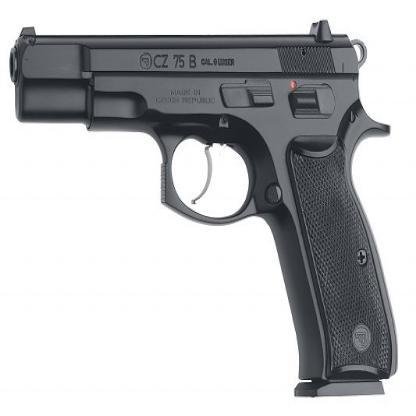gun: (8, 15, 401, 411)
